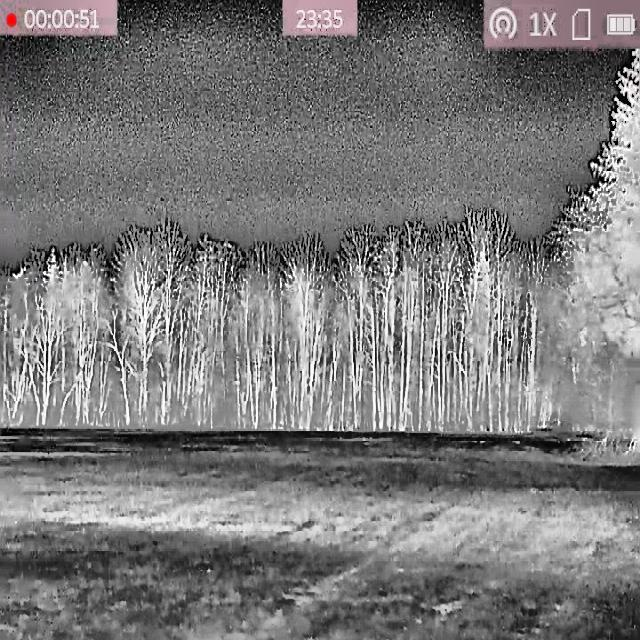drone: (223, 236, 234, 251)
